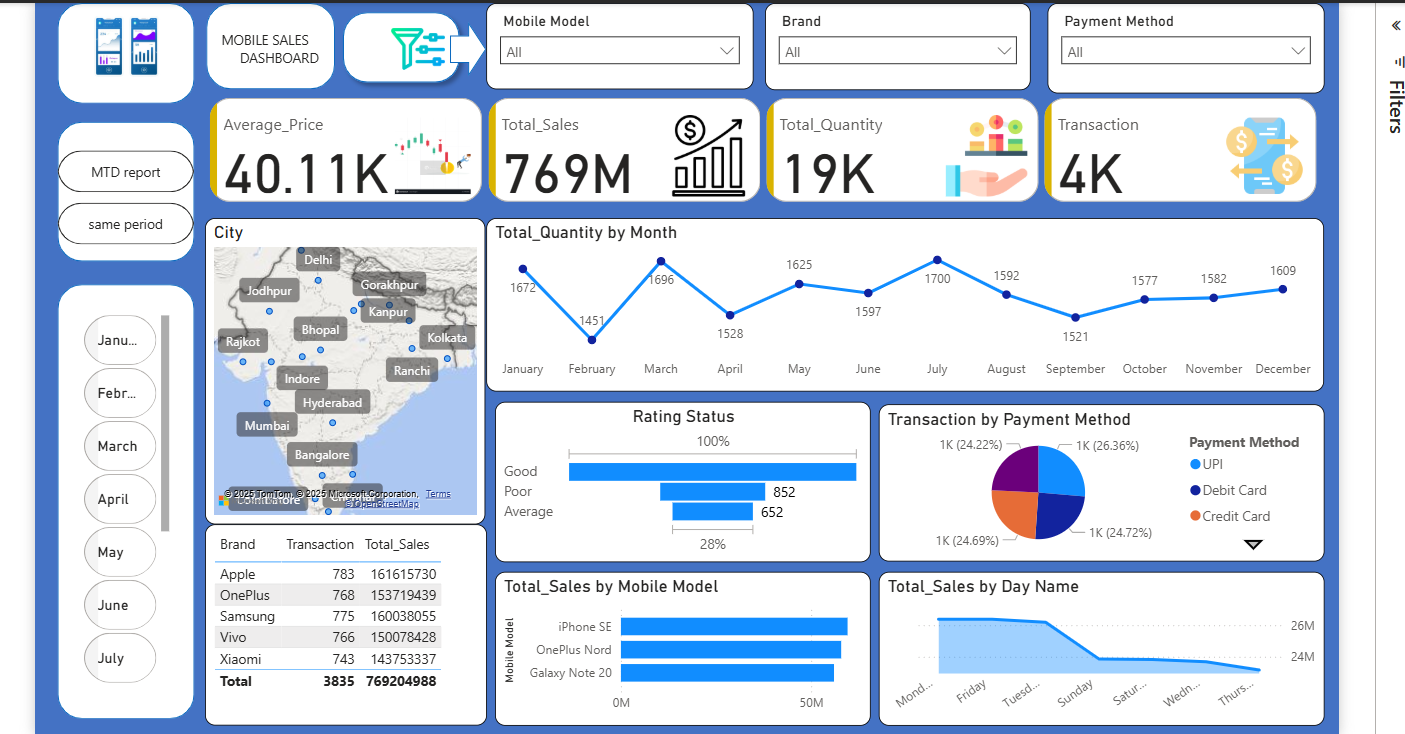

This screenshot's page, from the dashboard's own definition file:
{"tool":"powerbi","page":{"name":"Dashboard","canvas":[1280,720],"ordinal":0},"visuals":[{"type":"shape","box":[22,0,134.5,98.8],"z":0},{"type":"image","box":[41.2,0,94.7,87.8],"z":1000},{"type":"shape","box":[22,116.6,134.5,137.2],"z":2000},{"type":"shape","box":[22,275.8,134.5,426.8],"z":3000},{"type":"advancedSlicerVisual","fields":{"Values":["Custom_Calender.Date.Variation.Date Hierarchy.Month"]},"box":[42.5,301.9,94.7,376],"z":4000},{"type":"cardVisual","fields":{"Data":["Sales_data.Average_Price","Sales_data.Total_Sales","Sales_data.Total_Quantity","Sales_data.Transaction"]},"box":[166.7,88.9,1098.9,112.2],"z":5000},{"type":"slicer","fields":{"Values":["Sales_data.Mobile Model"]},"box":[442.5,0,262.5,85],"z":6000},{"type":"slicer","fields":{"Values":["Sales_data.Brand"]},"box":[716.7,0,261.1,85.6],"z":7000},{"type":"slicer","fields":{"Values":["Sales_data.Payment Method"]},"box":[993.3,0,272.2,88.9],"z":8000},{"type":"shape","box":[293.3,0,132.5,87.1],"z":9000},{"type":"image","box":[345,12.5,62.5,65],"z":10000},{"type":"shape","box":[407.4,18.4,35.6,54],"z":11000},{"type":"shape","box":[168.1,0,126.4,84.7],"z":12000},{"type":"textbox","box":[177.9,22.1,105.5,50.3],"z":13000},{"type":"map","fields":{"Category":["Sales_data.City"]},"box":[166.7,211.1,275.6,301.1],"z":14000},{"type":"lineChart","fields":{"Category":["Custom_Calender.Date.Variation.Date Hierarchy.Month"],"Y":["Sales_data.Total_Quantity"]},"box":[443.3,211.1,822.2,170],"z":15000},{"type":"funnel","title":"Rating Status","fields":{"Category":["Sales_data.Rating Status","Sales_data.Customer Ratings"],"Y":["CountNonNull(Sales_data.Customer Age)"]},"box":[451.1,391.1,368.9,157.8],"z":16000},{"type":"pieChart","fields":{"Y":["Sales_data.Transaction"],"Category":["Sales_data.Payment Method"]},"box":[827.8,394.4,437.8,154.4],"z":17000},{"type":"clusteredBarChart","fields":{"Y":["Sales_data.Total_Sales"],"Category":["Sales_data.Mobile Model"]},"box":[451.1,558.9,368.9,151.1],"z":18000},{"type":"stackedAreaChart","fields":{"Y":["Sales_data.Total_Sales"],"Category":["Custom_Calender.Day Name"]},"box":[827.8,558.9,437.8,151.1],"z":19000},{"type":"tableEx","fields":{"Values":["Sales_data.Brand","Sales_data.Transaction","Sales_data.Total_Sales"]},"box":[166.7,512.2,276.7,197.8],"z":20000},{"type":"pageNavigator","box":[22.3,144.7,135,93.2],"z":21000}]}

Visuals, with their boxes on the page's 1280x720 design canvas (x1, y1, x2, y2). These are canvas units, not pixel positions in the 1405x734 screenshot, which may show the page scaled, cropped or inside an application window:
shape: (22,0,156,99)
image: (41,0,136,88)
shape: (22,117,156,254)
shape: (22,276,156,703)
advancedSlicerVisual - Custom_Calender.Date.Variation.Date Hierarchy.Month: (42,302,137,678)
cardVisual - Sales_data.Average_Price x Sales_data.Total_Sales: (167,89,1266,201)
slicer - Sales_data.Mobile Model: (442,0,705,85)
slicer - Sales_data.Brand: (717,0,978,86)
slicer - Sales_data.Payment Method: (993,0,1266,89)
shape: (293,0,426,87)
image: (345,12,408,78)
shape: (407,18,443,72)
shape: (168,0,294,85)
textbox: (178,22,283,72)
map - Sales_data.City: (167,211,442,512)
lineChart - Custom_Calender.Date.Variation.Date Hierarchy.Month x Sales_data.Total_Quantity: (443,211,1266,381)
"Rating Status" funnel: (451,391,820,549)
pieChart - Sales_data.Transaction x Sales_data.Payment Method: (828,394,1266,549)
clusteredBarChart - Sales_data.Total_Sales x Sales_data.Mobile Model: (451,559,820,710)
stackedAreaChart - Sales_data.Total_Sales x Custom_Calender.Day Name: (828,559,1266,710)
tableEx - Sales_data.Brand x Sales_data.Transaction: (167,512,443,710)
pageNavigator: (22,145,157,238)
